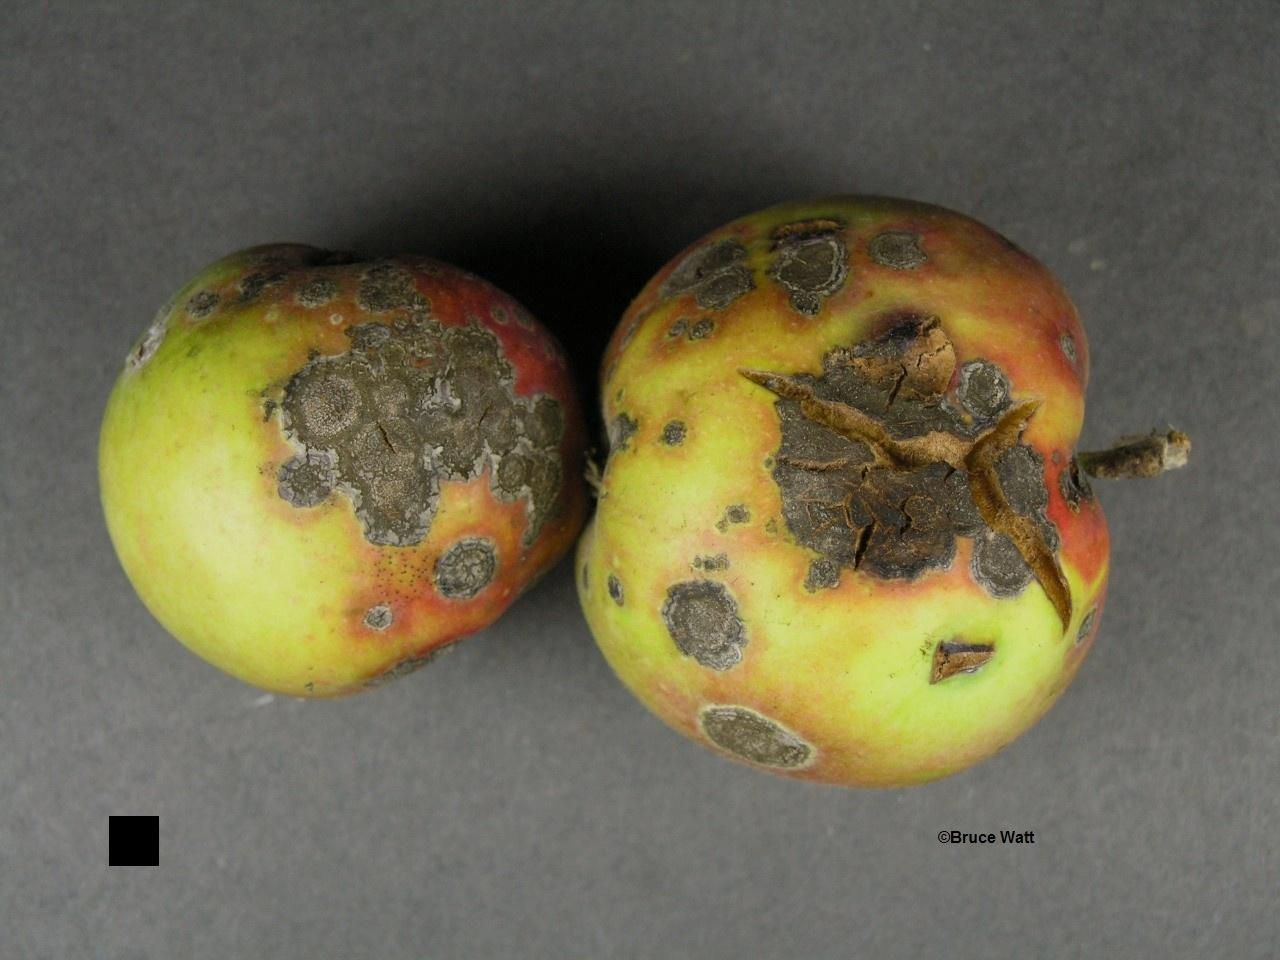rotten apple: (590, 181, 1149, 786), (63, 230, 581, 735)
